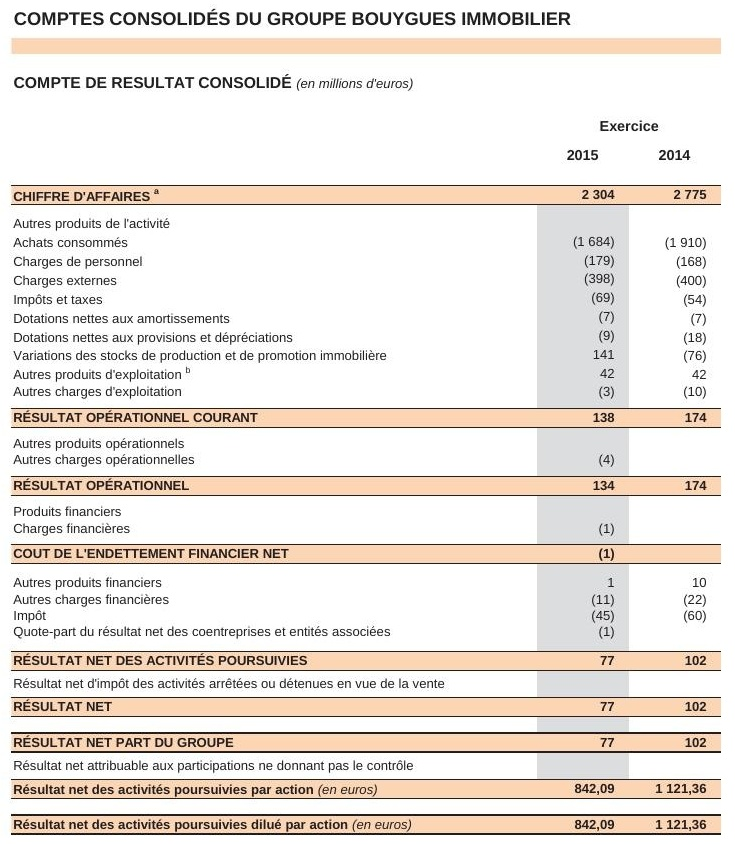table: (0, 0, 735, 844)
